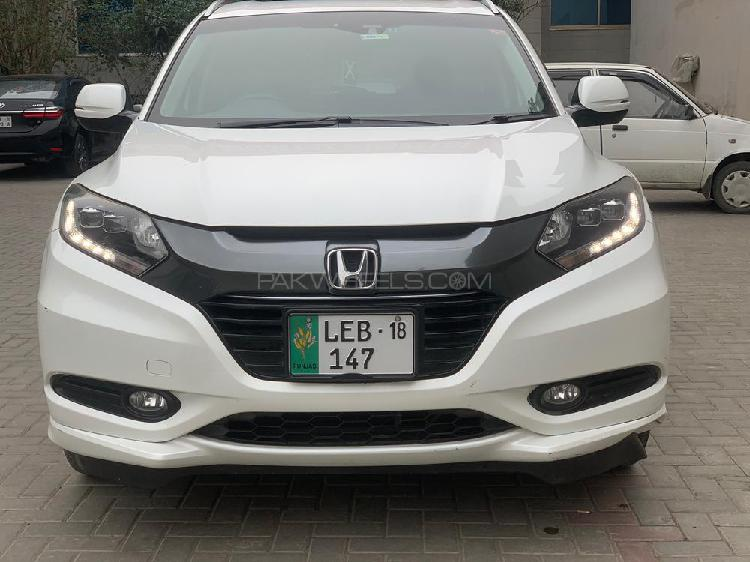plate: (284, 307, 420, 381)
